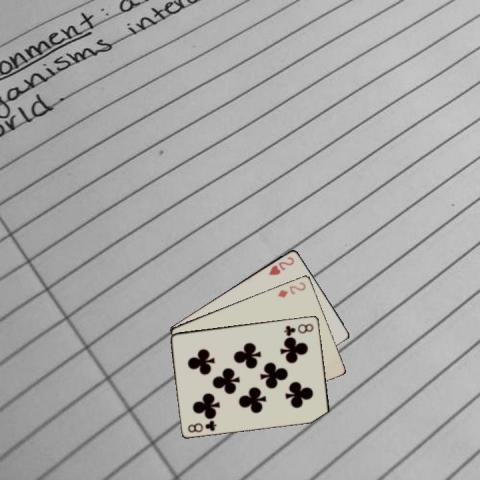2d: (275, 278, 307, 299)
2h: (266, 253, 295, 276)
8c: (185, 417, 218, 434), (281, 320, 315, 336)
